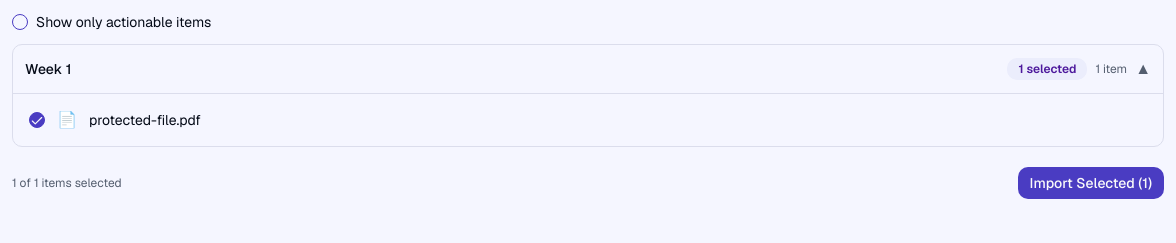
Test: MoodleFilePicker › shows auth error hint when download fails with 403
The width and height of the screenshot is (1176, 243).
Expected: the text "protected-file.pdf" is shown, top-left (89, 111), bottom-right (201, 129)
Click the button "Import Selected (1)" at point(1091, 183), box top-left (1018, 167), bottom-right (1164, 199)
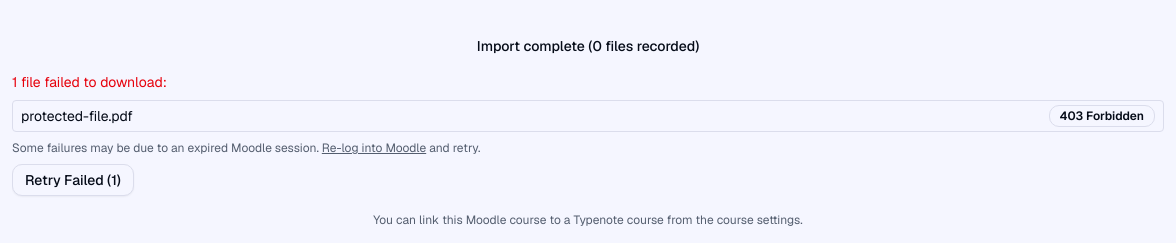
Expected: the text "Import complete (0 files recorded)" is shown, top-left (477, 36), bottom-right (699, 56)
Expected: the text "expired Moodle session" is shown, top-left (12, 140), bottom-right (319, 156)
